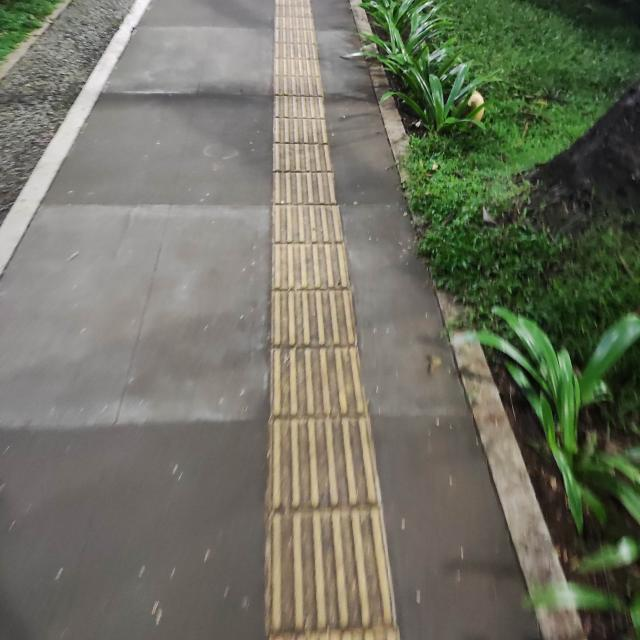lurus: (240, 22, 394, 640)
